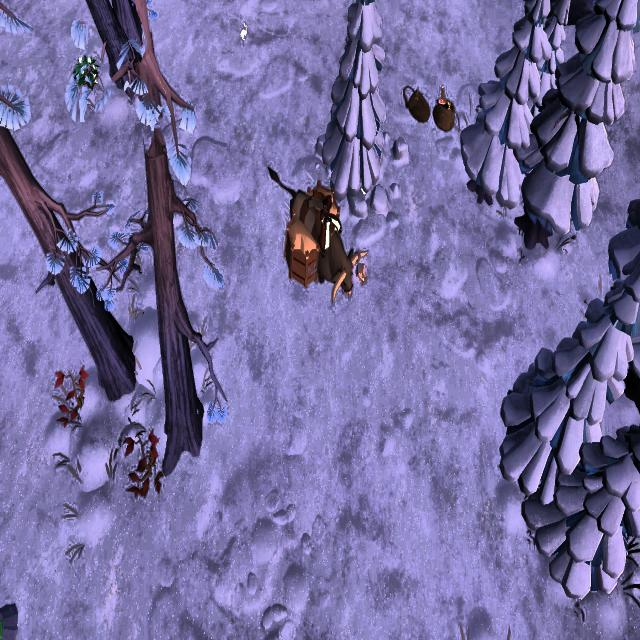fiber_t3: (69, 51, 99, 91)
